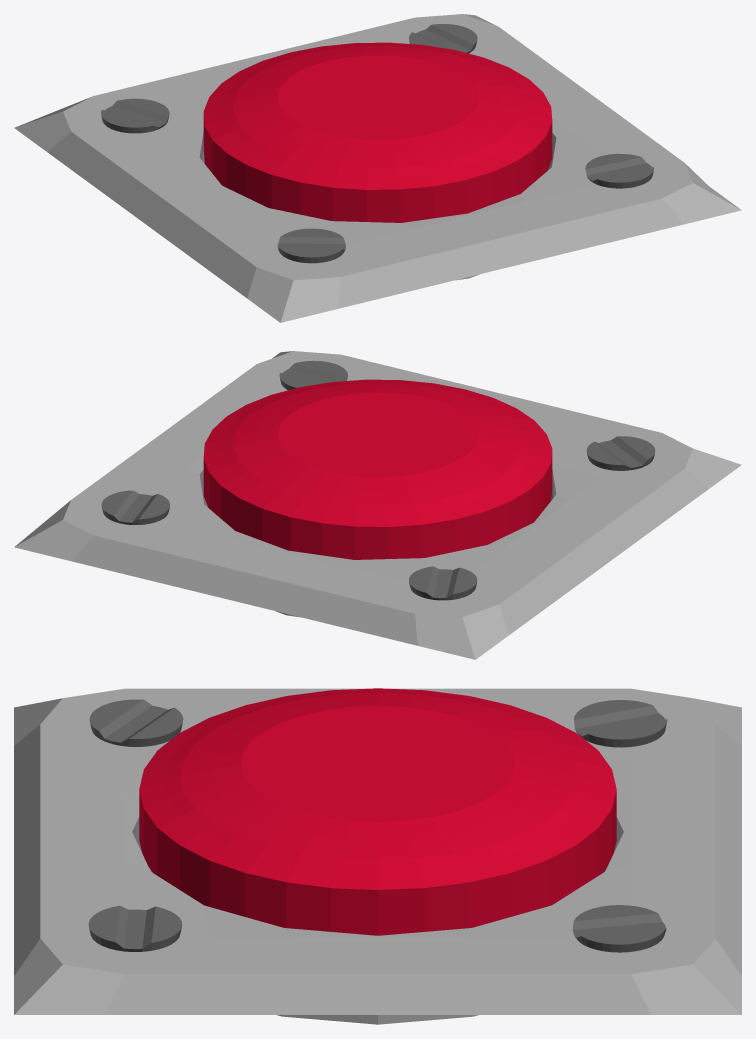
File: props.fbx_b19.fbx
3 renders of one model, top to bottom at view 1: azimuth 30°, elevation 25°; view 2: azimuth 150°, elevation 25°; view 3: azimuth 270°, elevation 25°, orthographic. The views are drawn at different scales.
Parts seen in each view (by area): view 1: Plane.030, Circle.024, Circle.025; view 2: Plane.030, Circle.024, Circle.025; view 3: Plane.030, Circle.024, Circle.025.
Boxes of the visible parts, x1,y1,x2,y2 form: Plane.030: (14,14,741,322); Circle.024: (203,42,552,222); Circle.025: (101,24,653,263); Plane.030: (14,351,741,659); Circle.024: (203,379,552,559); Circle.025: (101,360,655,600); Plane.030: (14,688,741,1024); Circle.024: (139,688,616,935); Circle.025: (88,699,667,952).
Bounding box in the file's own units: 1.04 × 0.2445 × 1.04.
